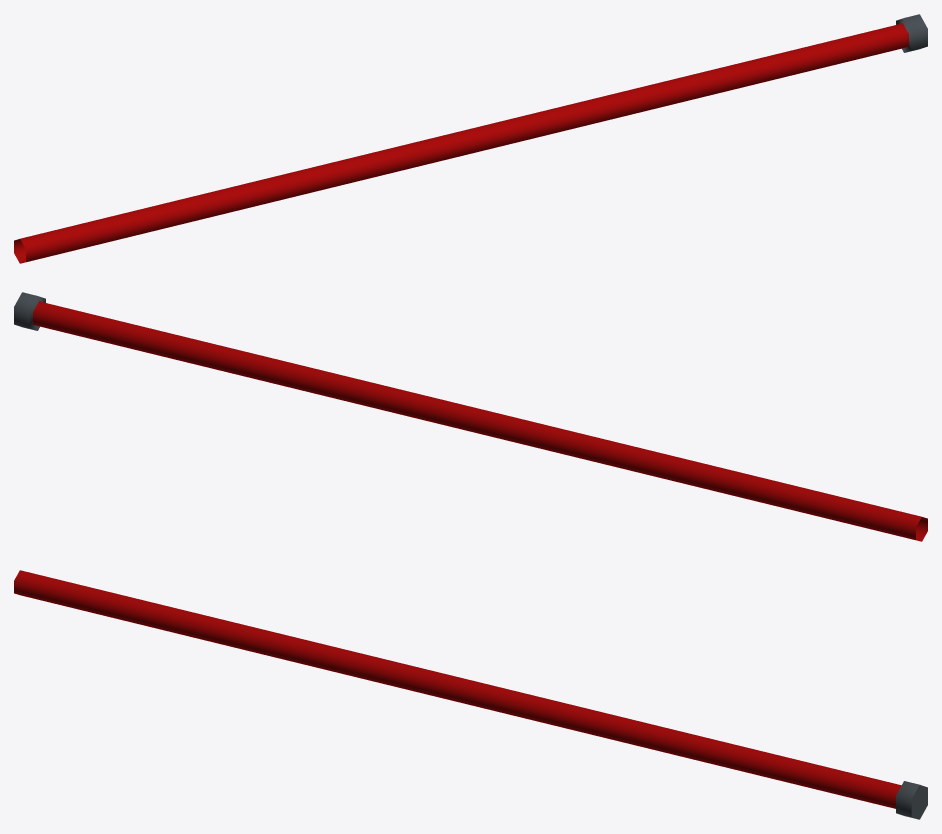
File: Cable_Straight.fbx
3 views of the same model, one above another, from view 1: azimuth 30°, elevation 25°; view 2: azimuth 150°, elevation 25°; view 3: azimuth 330°, elevation 25° (orthographic).
Visible parts, largest first — view 1: Cable_Straight; view 2: Cable_Straight; view 3: Cable_Straight.
Boxes of the visible parts, box(x1,y1,x2,y2) form: Cable_Straight: box(14, 14, 927, 263); Cable_Straight: box(14, 292, 927, 541); Cable_Straight: box(14, 570, 927, 819).
Size of the model in its own units: 75.07 by 2.8 by 2.37.
